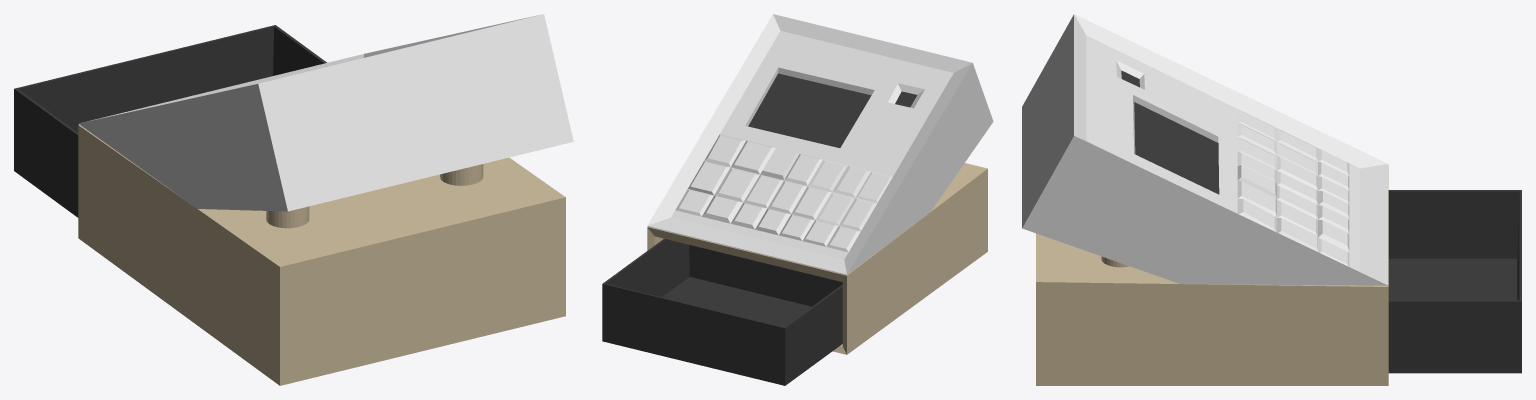
The model's file is register1.fbx.
3 views of the same model, side by side, from view 1: azimuth 30°, elevation 25°; view 2: azimuth 150°, elevation 25°; view 3: azimuth 270°, elevation 25° (orthographic). The views are drawn at different scales.
Visible parts, largest first — view 1: Cylinder; view 2: Cylinder; view 3: Cylinder.
Boxes of the visible parts, left/top/right/bottom form: Cylinder: left=14, top=14, right=573, bottom=385; Cylinder: left=602, top=14, right=993, bottom=385; Cylinder: left=1022, top=14, right=1521, bottom=385.
Size of the model in its own units: 330 by 316 by 572.
